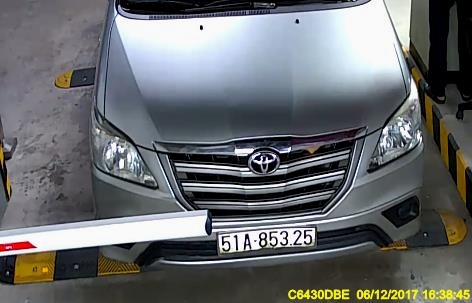plate: (220, 225, 319, 254)
